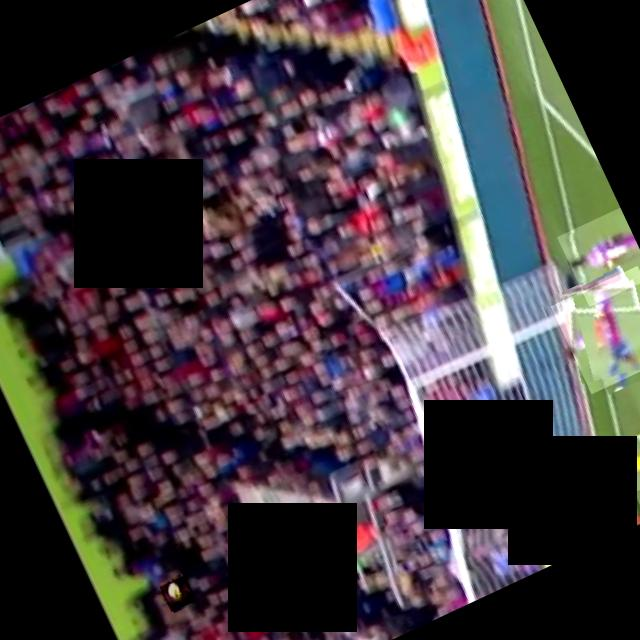ball: (160, 574, 197, 611)
goalkeeper: (526, 458, 640, 563)
soccer-player: (550, 265, 640, 393), (556, 206, 640, 305), (569, 409, 640, 511)
